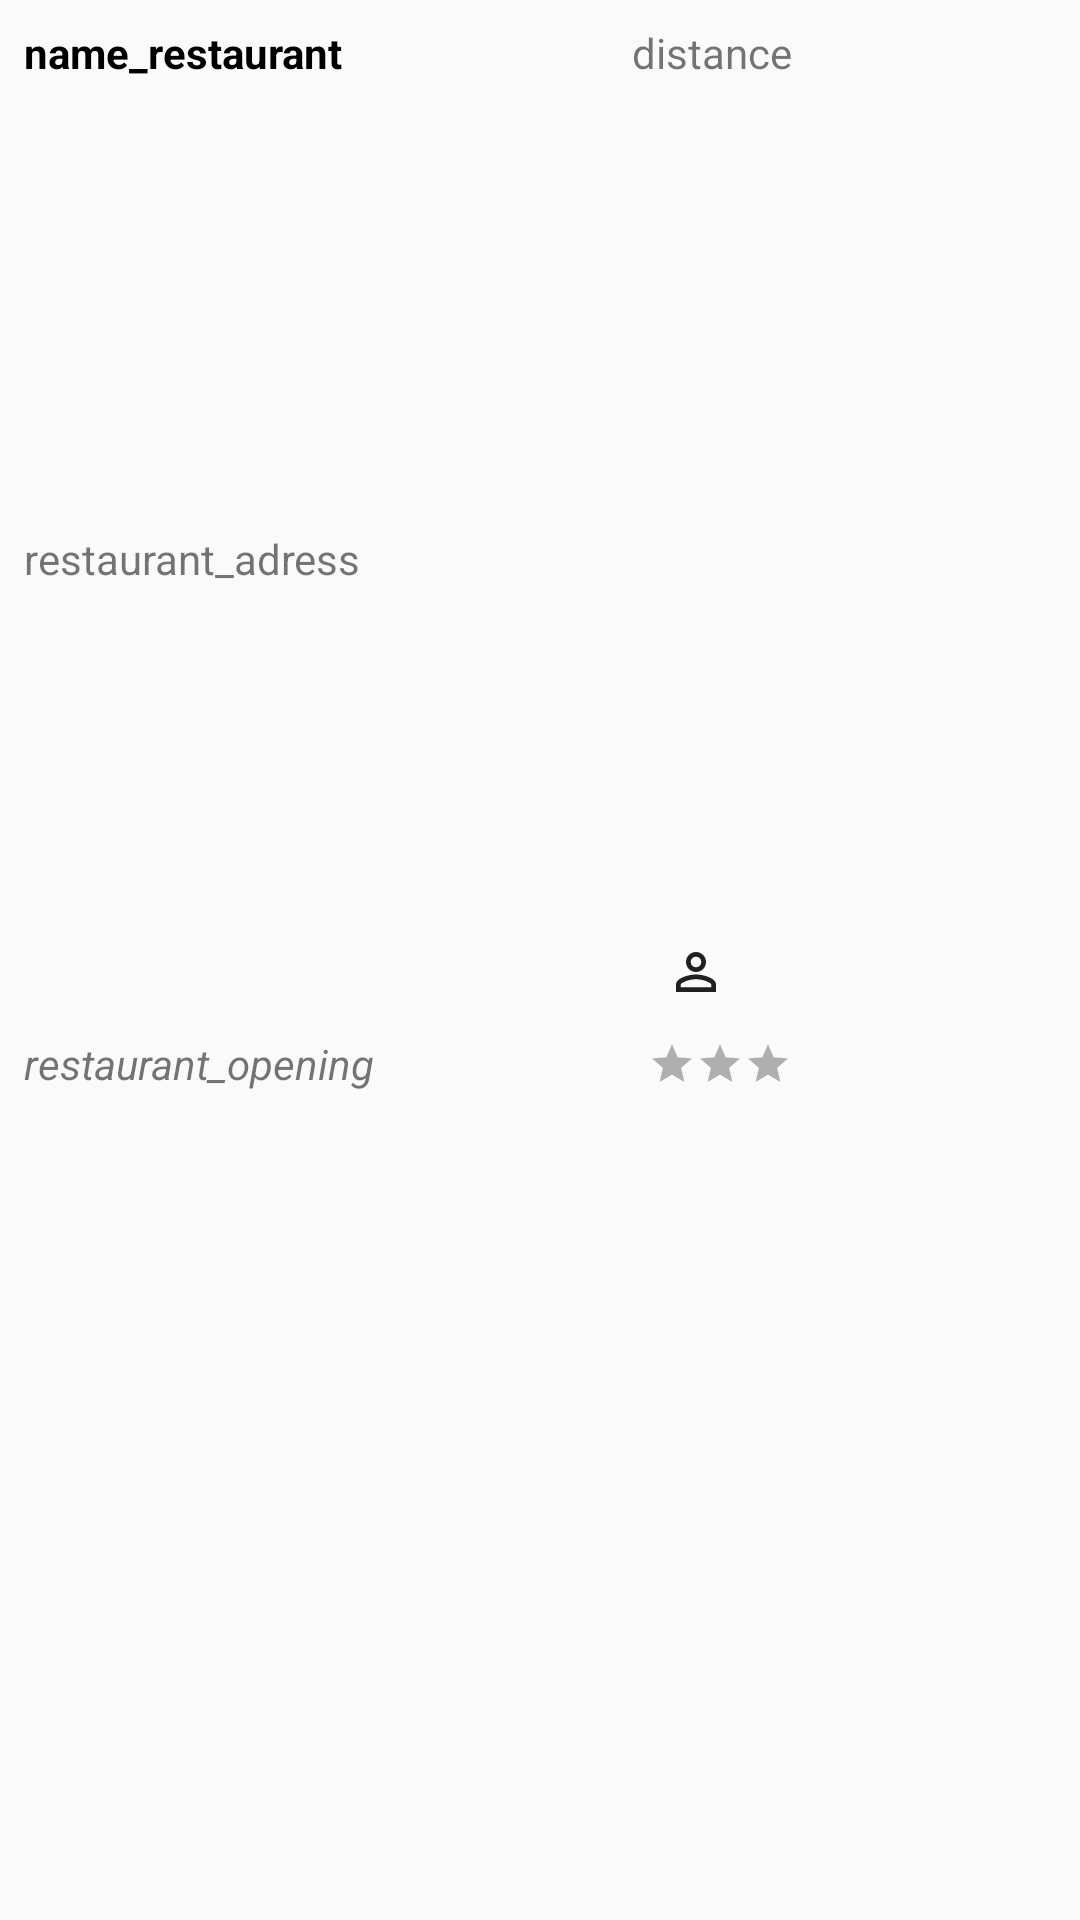

Icon click points for this 1080w x 1920h phone screenshot, format (x,y):
perm identity: (696,972)
